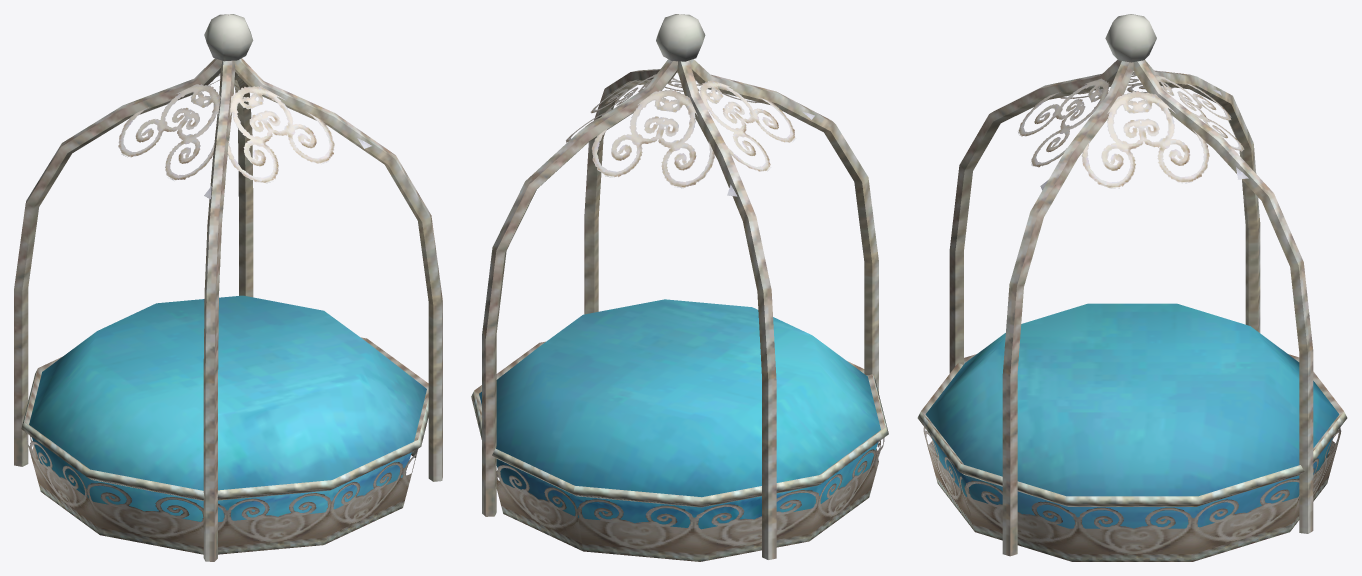
The model's file is furni_0200131_03.FBX.
3 renders of one model, left to right at view 1: azimuth 30°, elevation 25°; view 2: azimuth 150°, elevation 25°; view 3: azimuth 270°, elevation 25°, orthographic.
Parts seen in each view (by area): view 1: furni_0200131_03; view 2: furni_0200131_03; view 3: furni_0200131_03.
Part boxes in pixels (box(x1,y1,x2,y2)): furni_0200131_03: box(14, 14, 442, 561); furni_0200131_03: box(471, 14, 888, 561); furni_0200131_03: box(917, 14, 1347, 561).
Size of the model in its own units: 77.96 by 98.6 by 81.98.
